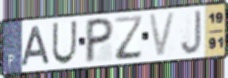A: (20, 25, 52, 68)
J: (180, 9, 203, 56)
P: (84, 17, 116, 65)
U: (51, 20, 78, 66)
V: (147, 11, 178, 60)
Z: (113, 14, 144, 62)
